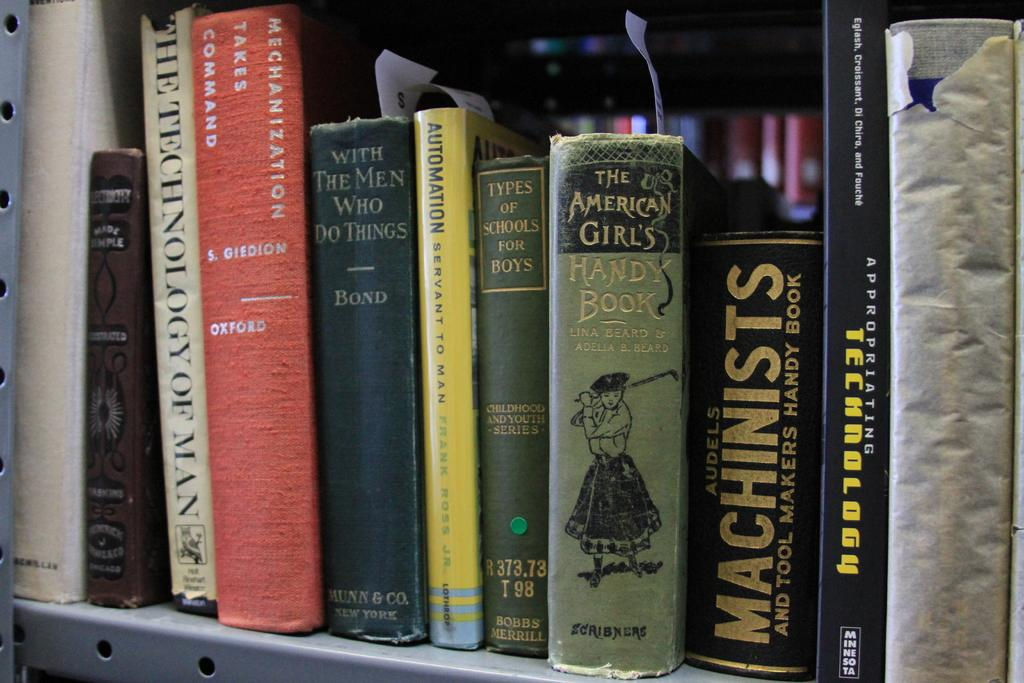book: (891, 18, 1021, 682), (189, 0, 319, 647), (548, 128, 686, 679), (419, 104, 540, 650), (308, 111, 425, 645), (686, 228, 824, 677), (817, 0, 900, 682), (140, 0, 220, 627), (0, 2, 79, 589), (476, 153, 554, 677), (86, 148, 173, 602)
